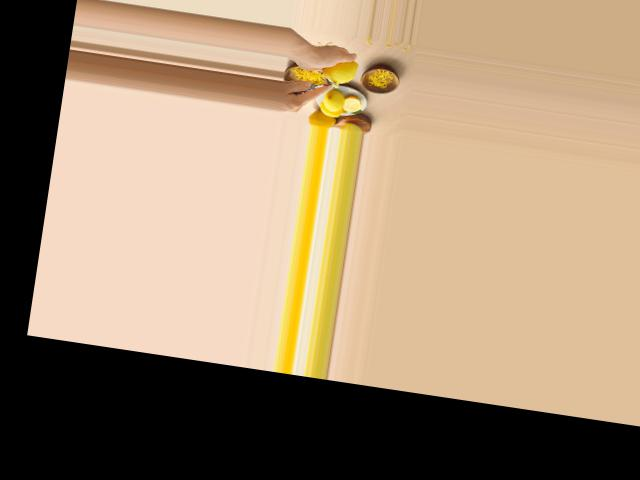lemon: (319, 51, 358, 87)
